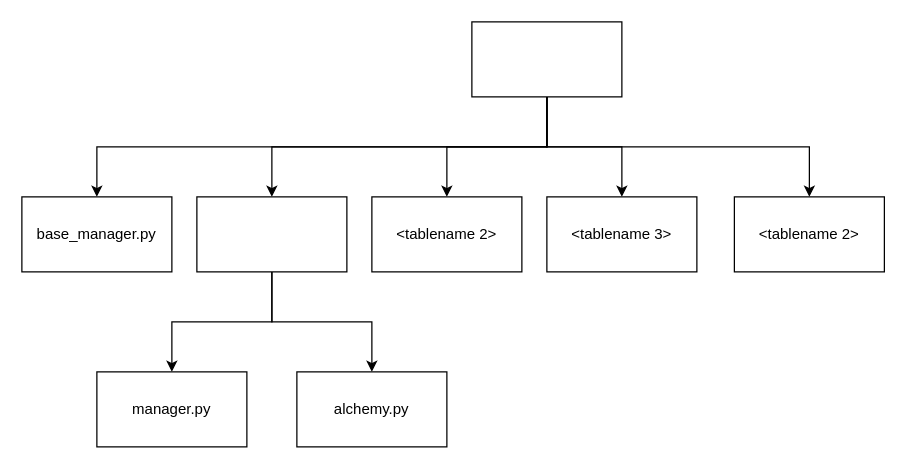
The diagram is 906 pixels wide and 469 high, and some of its shapes have lost their labels. The centre of each missing label's shape, as x and y in pixels:
<tablename 1>: the point at 271,234
backend: the point at 546,59
